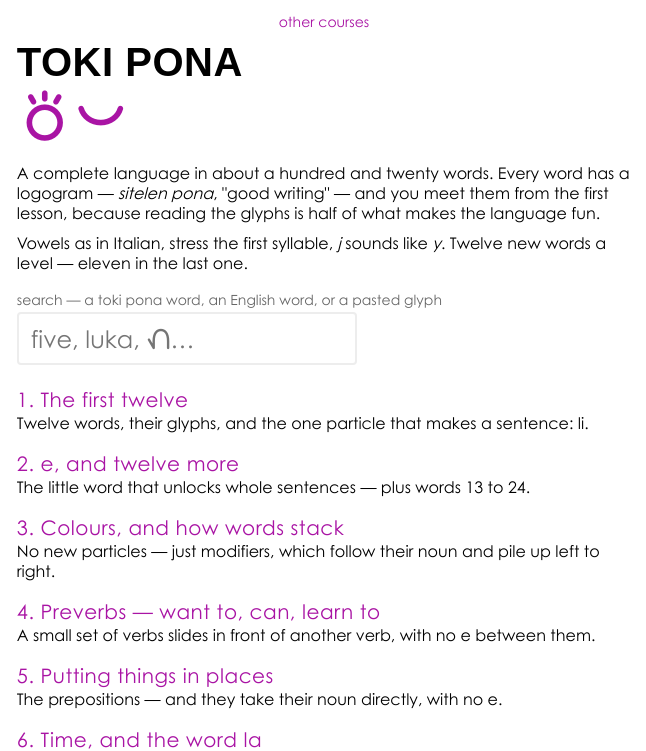
Test: toki pona › the same search box finds it by "hand" too
Type "hand" into the field labelled "search". click: [187, 338]
box: [17,312,357,365]
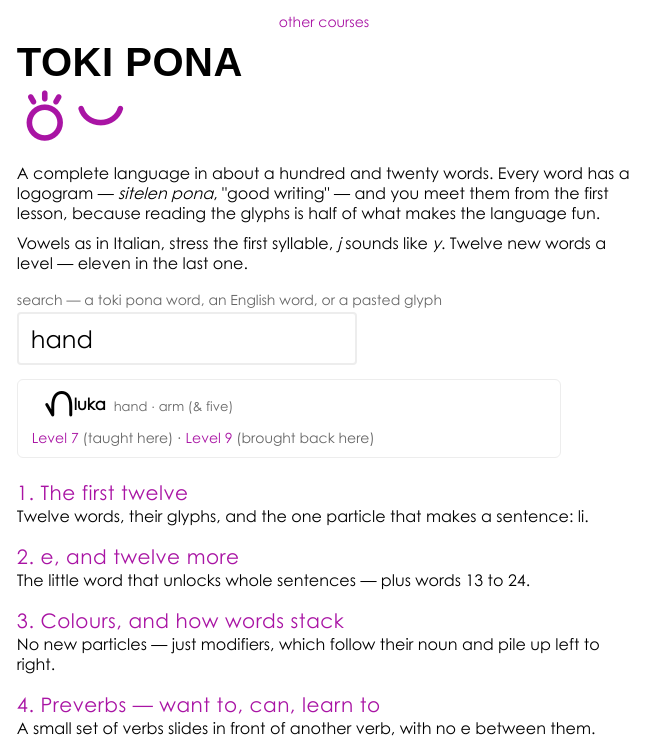
Result: the text "luka" is shown at [74,394,106,414]
